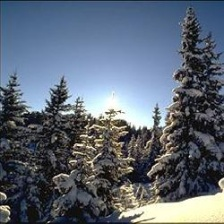neutral: (2, 5, 224, 222)
